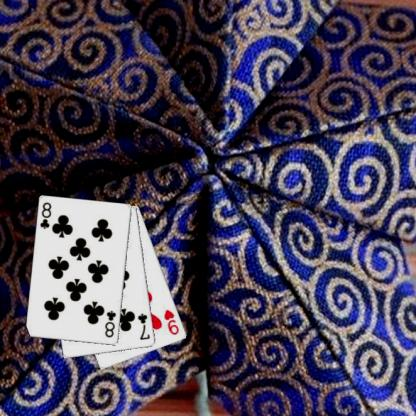7C: (135, 311, 152, 341)
8C: (102, 308, 118, 339), (37, 200, 53, 231)
9H: (162, 307, 180, 336)
